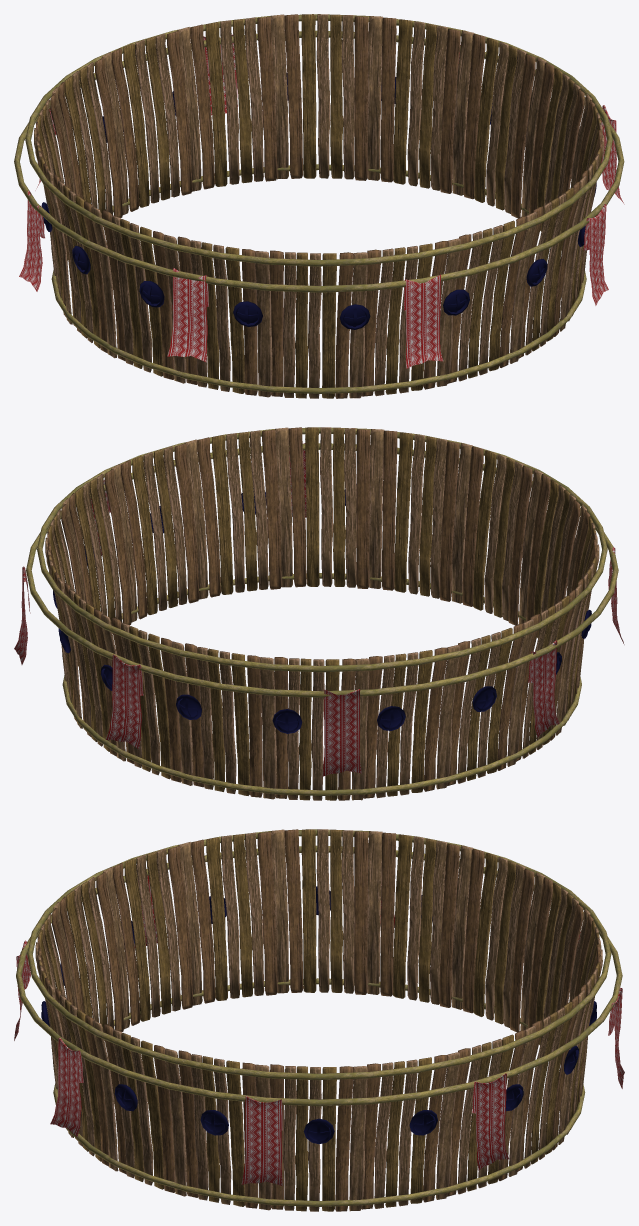
The model's file is SM_center_hut_wincloth.fbx.
3 views of the same model, one above another, from view 1: azimuth 30°, elevation 25°; view 2: azimuth 150°, elevation 25°; view 3: azimuth 270°, elevation 25° (orthographic). The views are drawn at different scales.
Visible parts, largest first — view 1: center_hut_wincloth; view 2: center_hut_wincloth; view 3: center_hut_wincloth.
Boxes of the visible parts, <box> form: center_hut_wincloth: <box>14,14,624,398</box>; center_hut_wincloth: <box>14,427,624,800</box>; center_hut_wincloth: <box>14,829,624,1211</box>.
Size of the model in its own units: 1732 by 480 by 1729.
